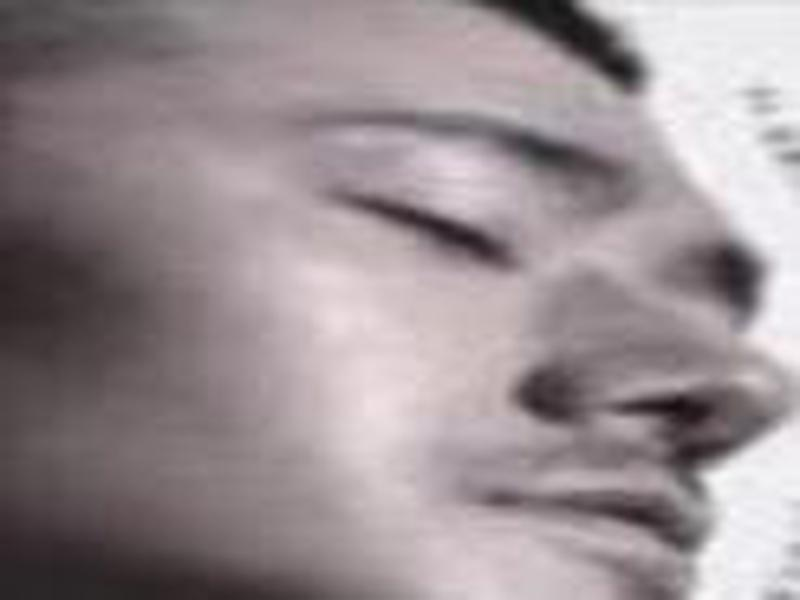without_mask: (17, 8, 797, 600)
